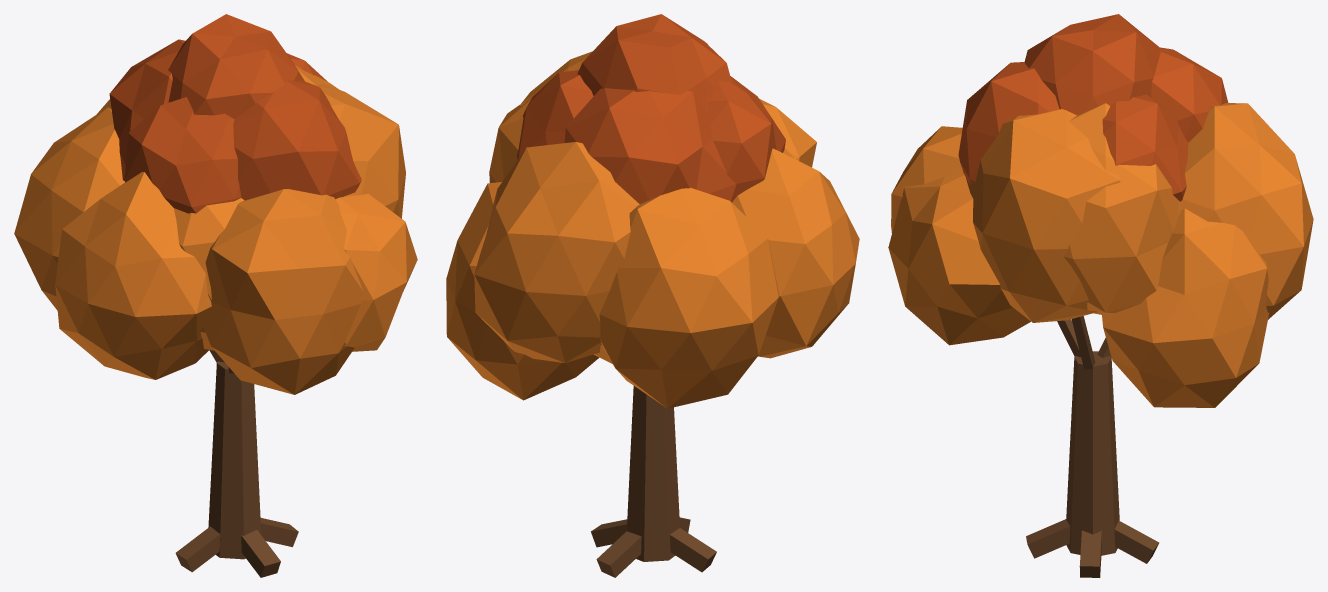
File: Tree_Broadleaf_Orange.fbx
3 renders of one model, left to right at view 1: azimuth 30°, elevation 25°; view 2: azimuth 150°, elevation 25°; view 3: azimuth 270°, elevation 25°, orthographic.
Parts seen in each view (by area): view 1: Tree_Broadleaf_Orange; view 2: Tree_Broadleaf_Orange; view 3: Tree_Broadleaf_Orange.
Boxes of the visible parts, <box> form: Tree_Broadleaf_Orange: <box>14,14,417,577</box>; Tree_Broadleaf_Orange: <box>446,14,859,577</box>; Tree_Broadleaf_Orange: <box>888,14,1313,577</box>.
Bounding box in the file's own units: 3.52 × 5.27 × 3.86.
